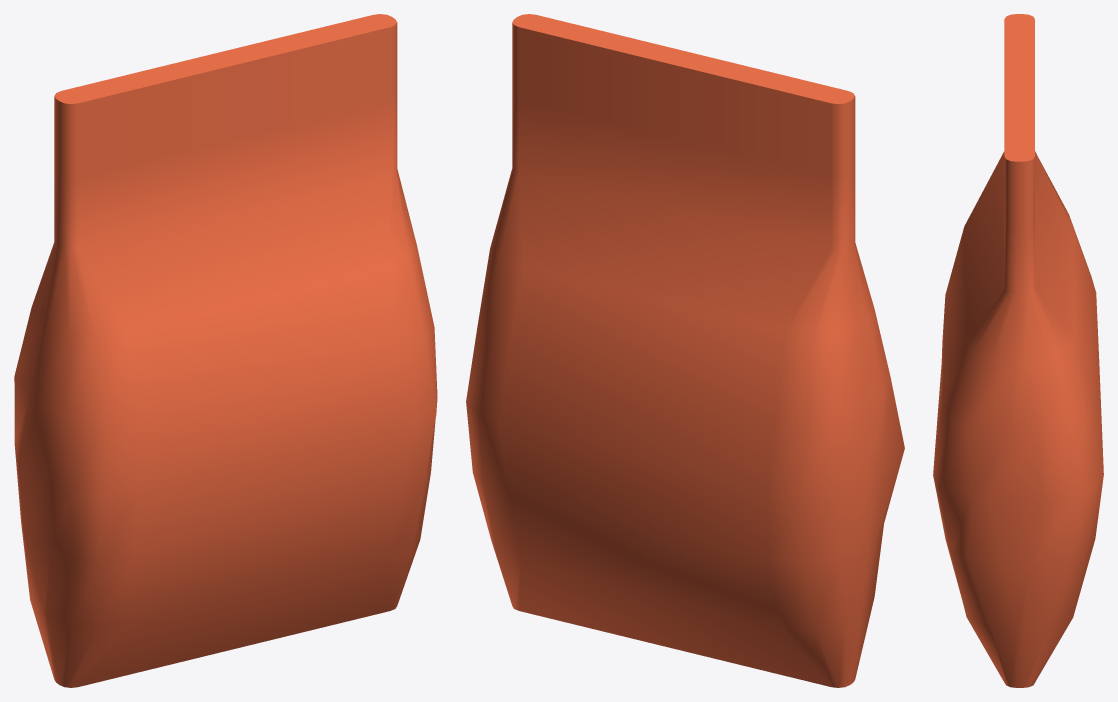
Rendered from sachet_snack.glb.
The picture shows the model from 3 angles, left to right: view 1: azimuth 30°, elevation 25°; view 2: azimuth 150°, elevation 25°; view 3: azimuth 270°, elevation 25°; orthographic projection. The views are drawn at different scales.
Visible parts, largest first — view 1: SNA_Corail; view 2: SNA_Corail; view 3: SNA_Corail.
Part boxes in pixels (x1=…): SNA_Corail: x1=14, y1=14, x2=437, y2=687; SNA_Corail: x1=466, y1=14, x2=904, y2=687; SNA_Corail: x1=933, y1=14, x2=1103, y2=687.
Bounding box in the file's own units: 0.1328 × 0.19 × 0.0559.
